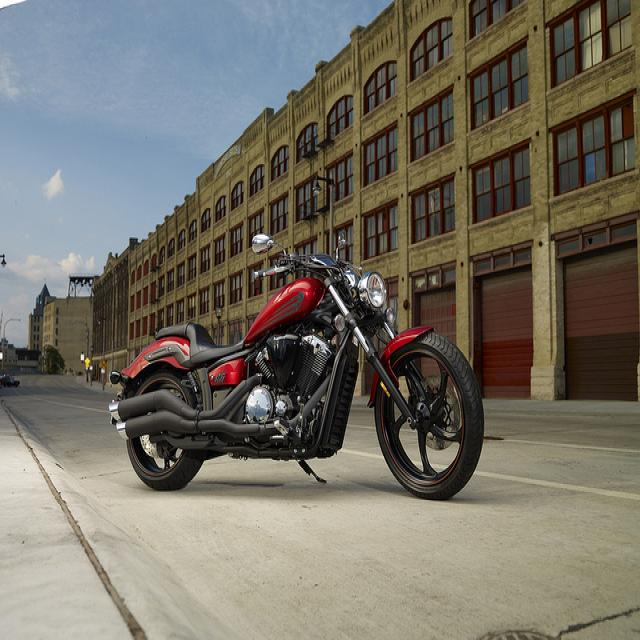motor: (107, 223, 482, 503)
